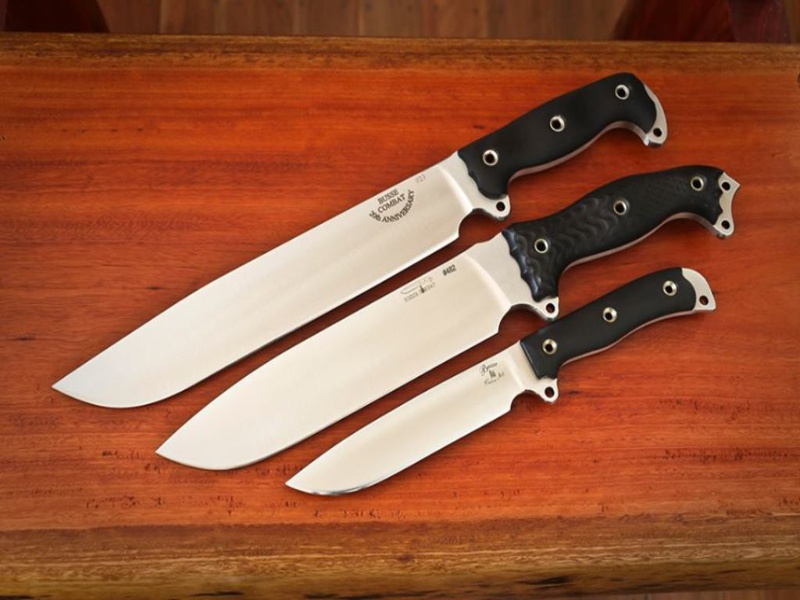knife: (48, 71, 746, 496), (45, 70, 670, 413), (150, 164, 745, 479), (277, 268, 718, 503)
